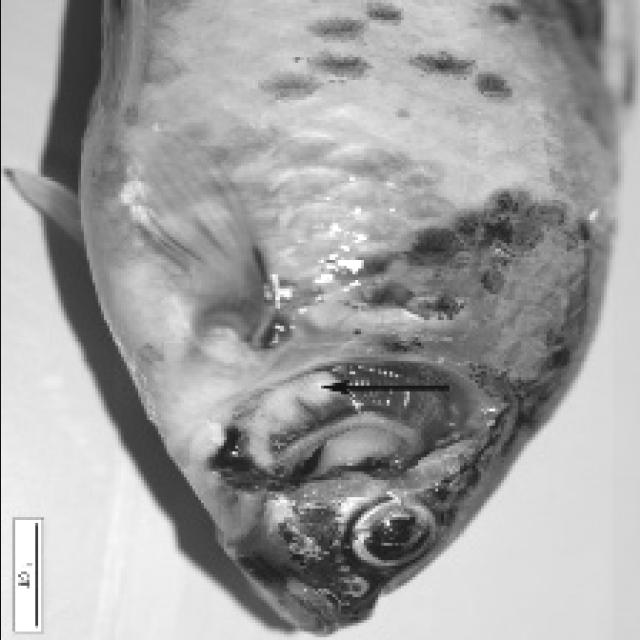Gill Disease: (114, 214, 612, 640)
